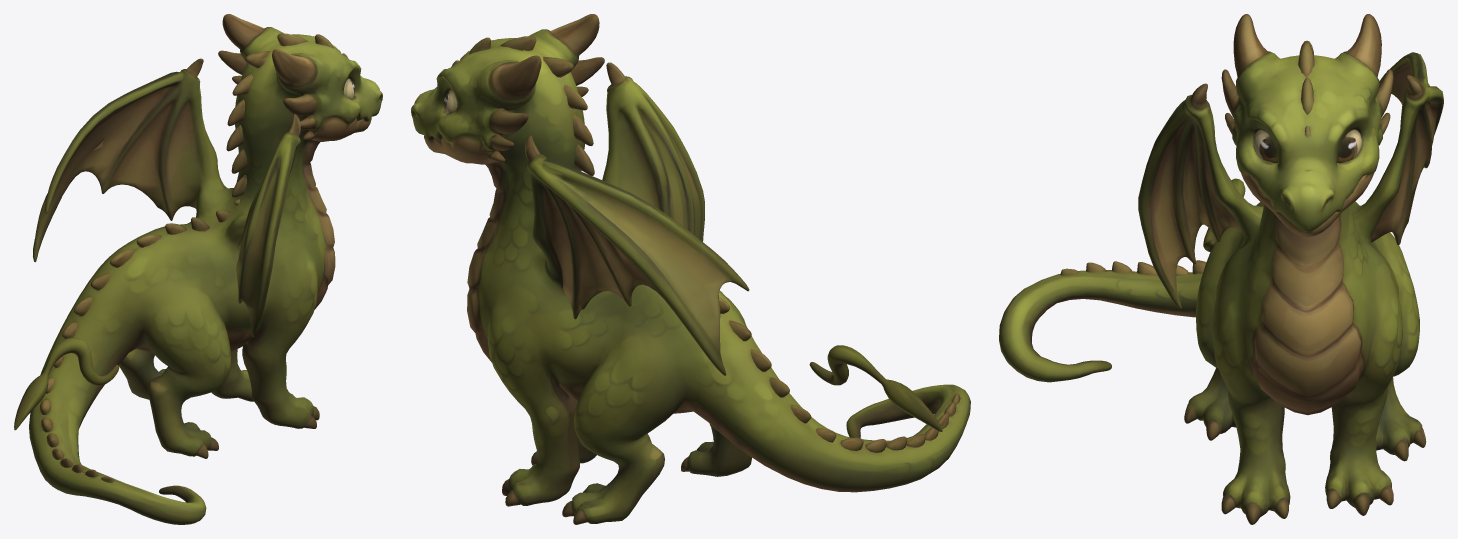
File: 20-dragon.glb
3 views of the same model, side by side, from view 1: azimuth 30°, elevation 25°; view 2: azimuth 150°, elevation 25°; view 3: azimuth 270°, elevation 25° (orthographic). The views are drawn at different scales.
Visible parts, largest first — view 1: tripo_node_a700de2d-f2b1-422f-bd18-db345f32bd34; view 2: tripo_node_a700de2d-f2b1-422f-bd18-db345f32bd34; view 3: tripo_node_a700de2d-f2b1-422f-bd18-db345f32bd34.
Part boxes in pixels (x1,y1,x2,y2): tripo_node_a700de2d-f2b1-422f-bd18-db345f32bd34: [14, 14, 382, 524]; tripo_node_a700de2d-f2b1-422f-bd18-db345f32bd34: [411, 14, 970, 524]; tripo_node_a700de2d-f2b1-422f-bd18-db345f32bd34: [999, 14, 1443, 524].
Size of the model in its own units: 0.9995 by 0.8999 by 0.7495.
Materials: 1 (1 with a texture image).
